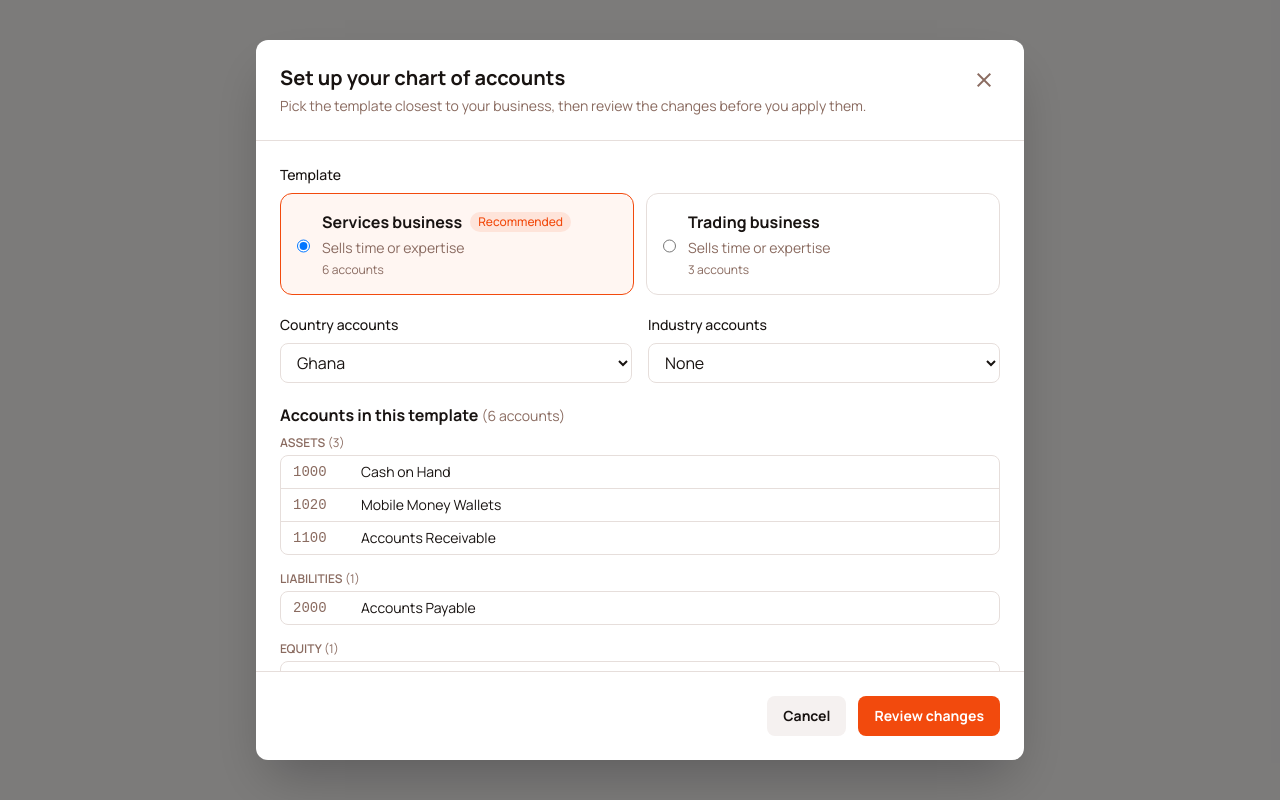
Test case: CoaTemplatePicker › updates the preview when the overlay or template changes, dropping overlays that do not fit
This screenshot has width=1280, height=800.
Select "Clinic" in the dropdown with test id "coa-industry-select" at (824, 363), box [648, 343, 1000, 383]
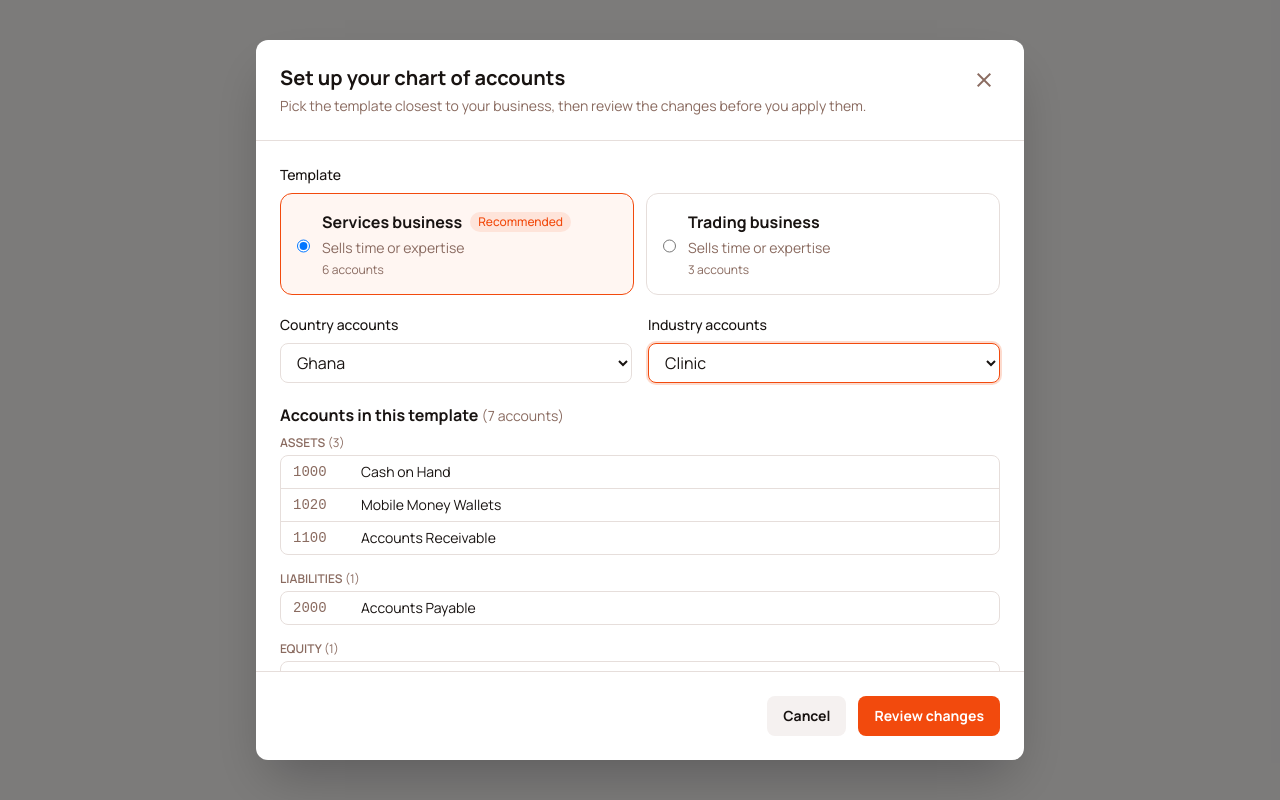
Now the text with test id "coa-template-preview-count" shows "7 accounts", box [488, 406, 558, 425]
Click the radio button labelled "Trading business Sells time or expertise 3 accounts".
click(670, 246)  # box [663, 214, 676, 278]
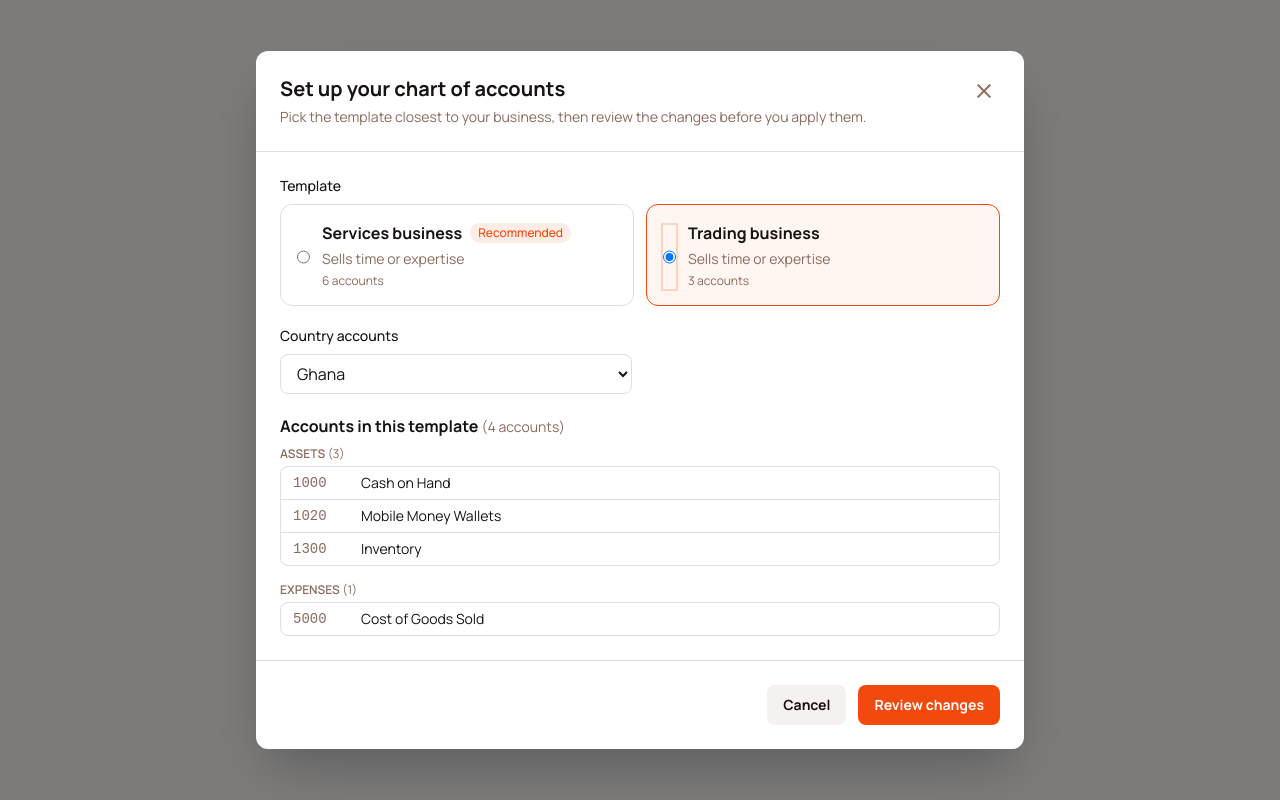
Now the dropdown with test id "coa-industry-select" is gone
Now the text with test id "coa-template-preview-count" shows "4 accounts", box [488, 417, 559, 436]
Now the element with test id "coa-template-preview-group-expense" shows "Cost of Goods Sold", box [361, 609, 484, 628]
